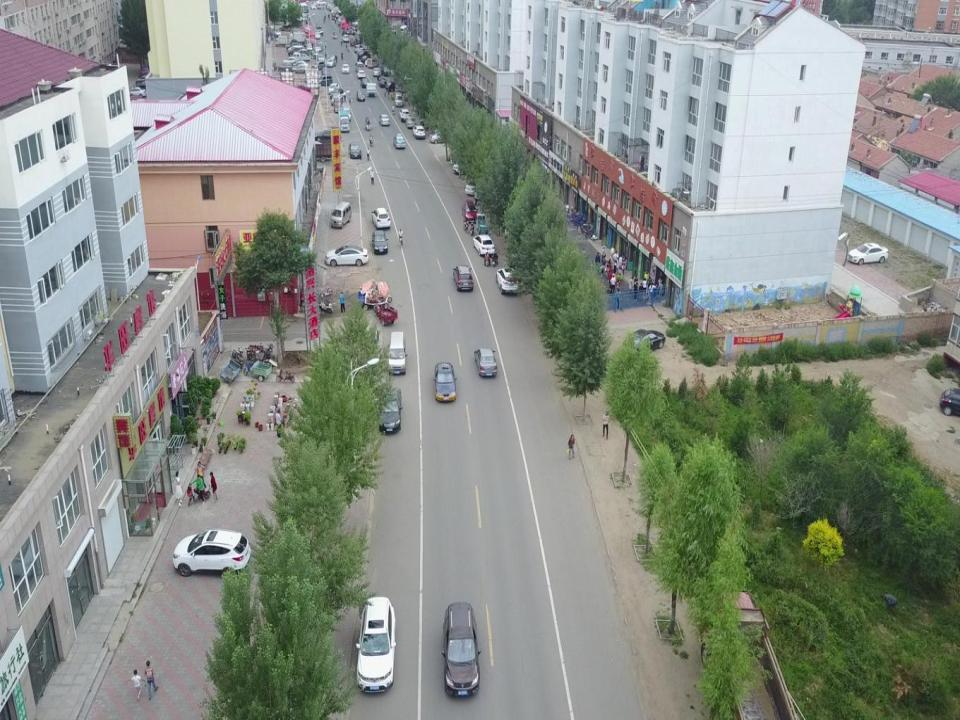car: (355, 596, 397, 692), (171, 527, 250, 578), (441, 600, 482, 698), (622, 328, 666, 356), (379, 386, 403, 433), (433, 361, 457, 401), (325, 244, 368, 266), (934, 383, 960, 419), (847, 242, 889, 263), (473, 348, 498, 376), (496, 268, 520, 296), (452, 263, 474, 290), (473, 234, 495, 255), (371, 207, 391, 228), (429, 128, 454, 144), (372, 230, 388, 254), (313, 129, 341, 142), (452, 159, 476, 174), (462, 200, 478, 221), (465, 180, 486, 194), (128, 86, 146, 98), (420, 117, 438, 128), (349, 142, 361, 158), (393, 132, 405, 148), (413, 125, 426, 139), (398, 109, 410, 122), (330, 95, 343, 106), (330, 88, 343, 99), (378, 114, 390, 125), (405, 117, 417, 128), (327, 83, 339, 93), (356, 90, 366, 101), (360, 78, 368, 87), (357, 70, 366, 77)
truck: (290, 139, 334, 162), (338, 111, 350, 132), (476, 214, 487, 232), (342, 102, 350, 122)
van: (389, 331, 408, 375), (330, 201, 352, 229), (317, 75, 332, 86), (333, 98, 343, 113), (396, 92, 403, 106)
